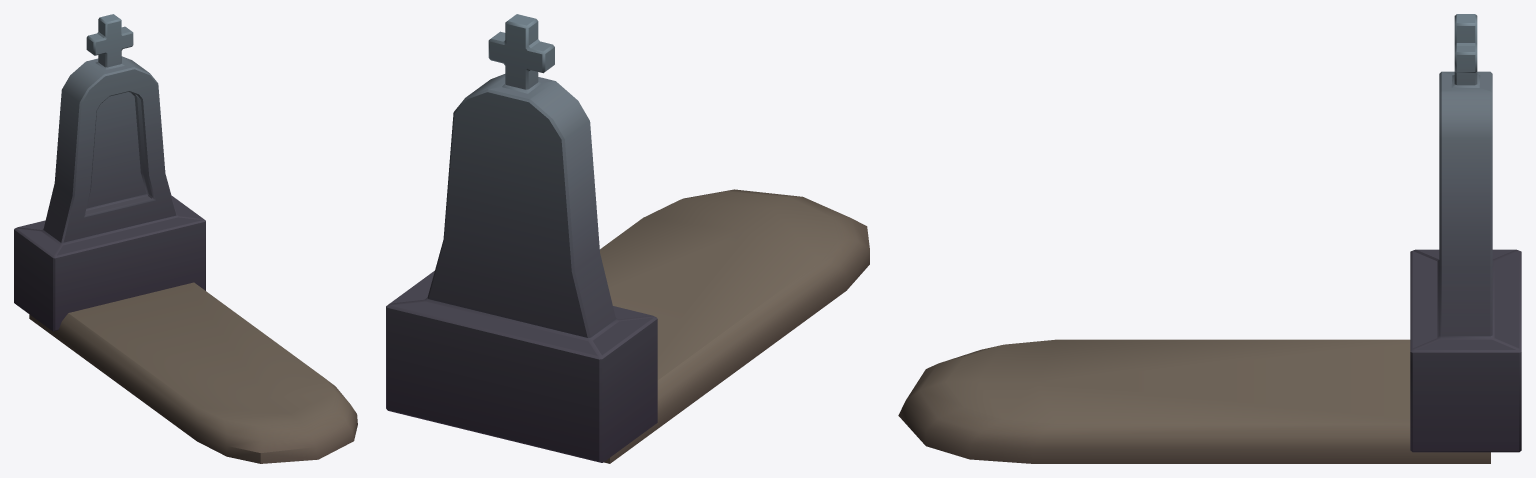
The model's file is GStone5.fbx.
3 renders of one model, left to right at view 1: azimuth 30°, elevation 25°; view 2: azimuth 150°, elevation 25°; view 3: azimuth 270°, elevation 25°, orthographic. The views are drawn at different scales.
Visible parts, largest first — view 1: GStone5; view 2: GStone5; view 3: GStone5.
Part boxes in pixels (box(x1,y1,x2,y2)): GStone5: box(14, 14, 357, 463); GStone5: box(386, 14, 869, 463); GStone5: box(898, 14, 1521, 463).
Size of the model in its own units: 200 by 362 by 516.
Materials: 1 (1 with a texture image).
